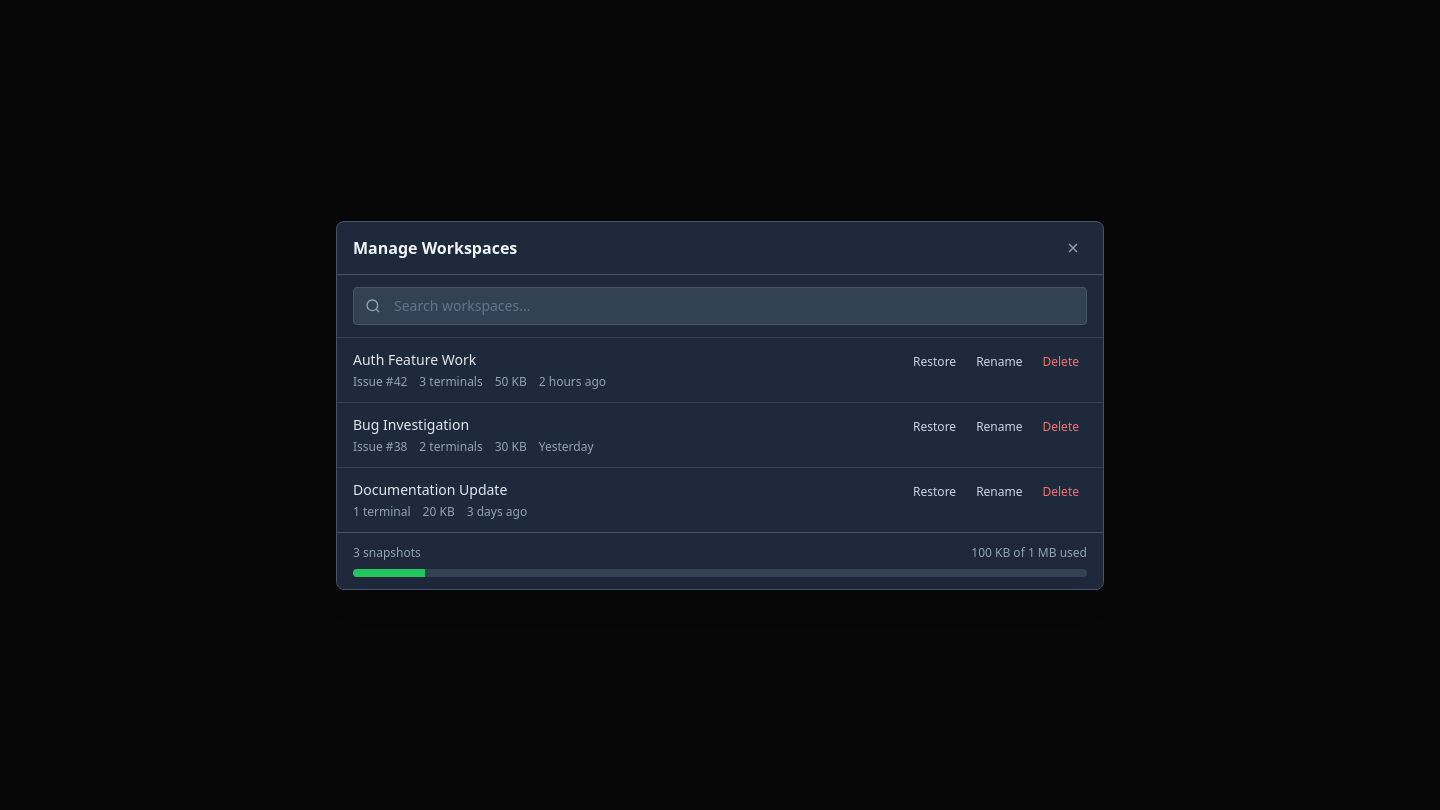
WorkspaceManager › Actions - Rename › should show rename input when rename button is clicked
Click the button "Rename" in the row of "Auth Feature Work": {"x": 999, "y": 362} [968,350,1030,374]
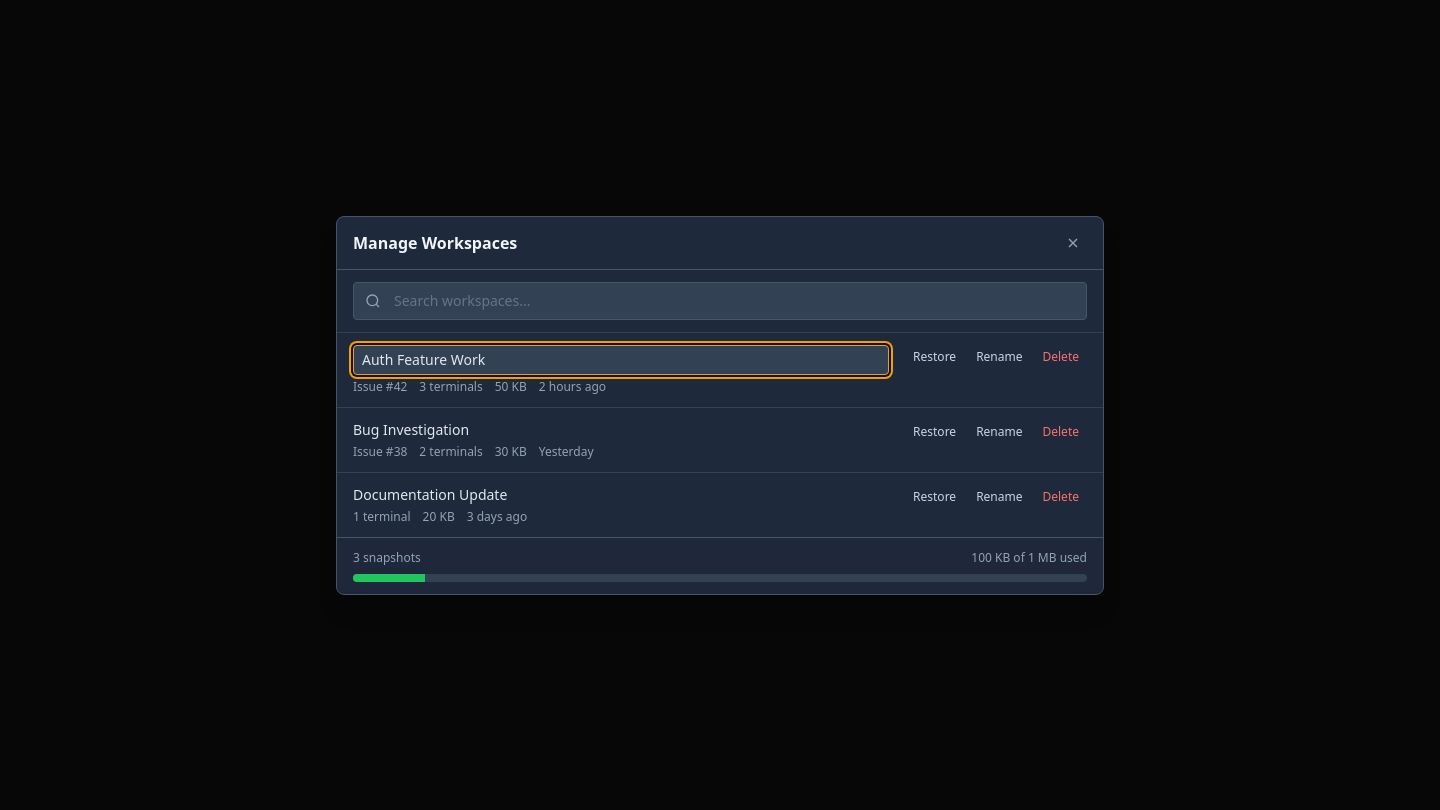
Expected: the field showing "Auth Feature Work" is shown, [353,344,889,374]
